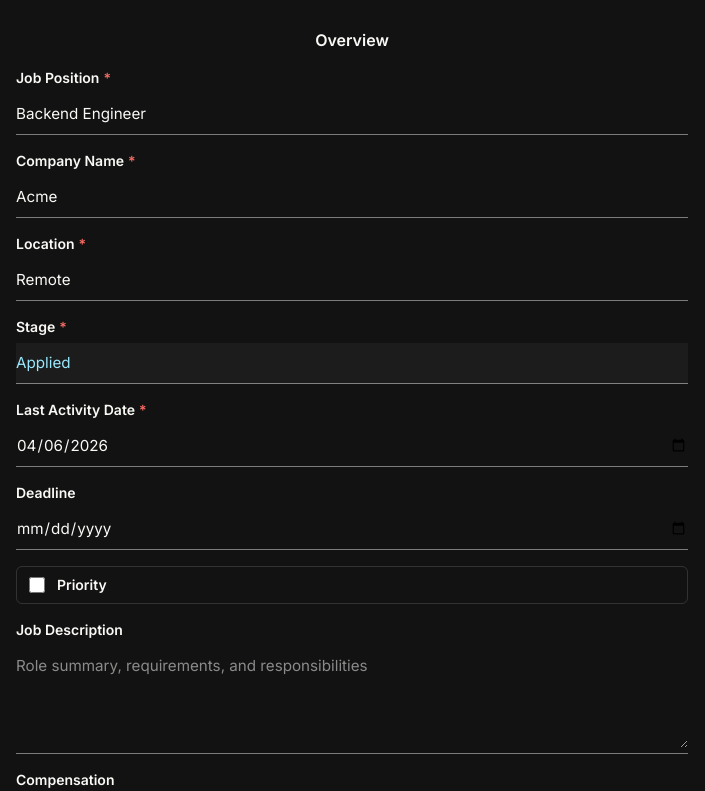
Test case: EditJobForm › shows inline required error when a required field is cleared
Clear the field labelled "Job Position*" at x=352, y=115, box left=16, top=94, right=688, bottom=135
(page scrolled)
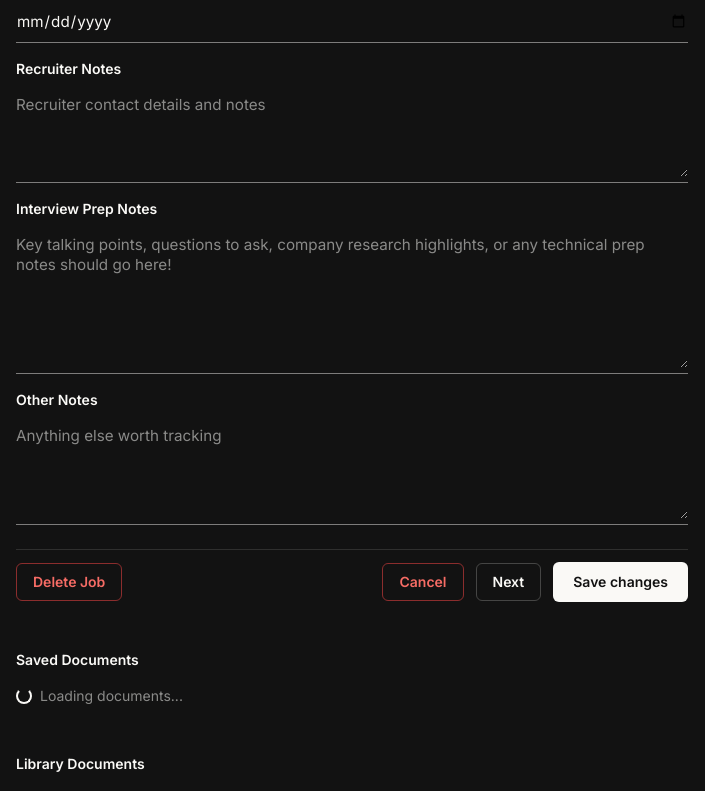
Click the button "Save changes" at x=621, y=582, box left=553, top=562, right=688, bottom=602
(page scrolled)
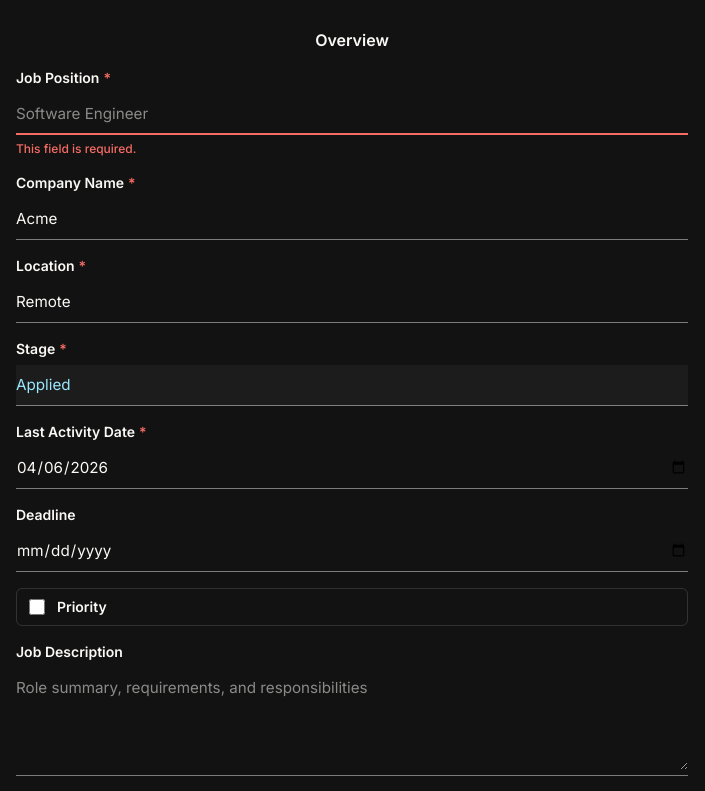
Expected: the text "This field is required." is shown, left=16, top=141, right=136, bottom=156
